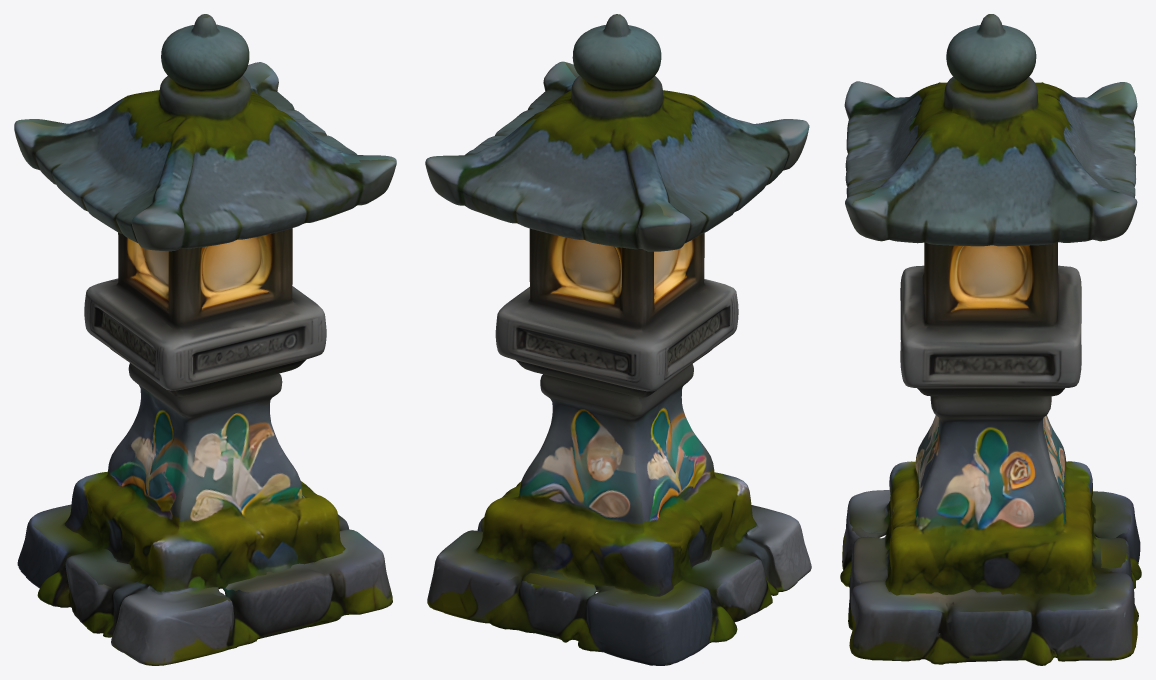
File: stone_lantern.glb
The picture shows the model from 3 angles, left to right: view 1: azimuth 30°, elevation 25°; view 2: azimuth 150°, elevation 25°; view 3: azimuth 270°, elevation 25°; orthographic projection. The views are drawn at different scales.
Visible parts, largest first — view 1: texture_pbr_v128; view 2: texture_pbr_v128; view 3: texture_pbr_v128.
Boxes of the visible parts, x1,y1,x2,y2 form: texture_pbr_v128: (14,14,396,665); texture_pbr_v128: (425,14,811,665); texture_pbr_v128: (840,14,1141,665).
Size of the model in its own units: 0.5223 by 1.02 by 0.4773.
1 material, 1 textured.
